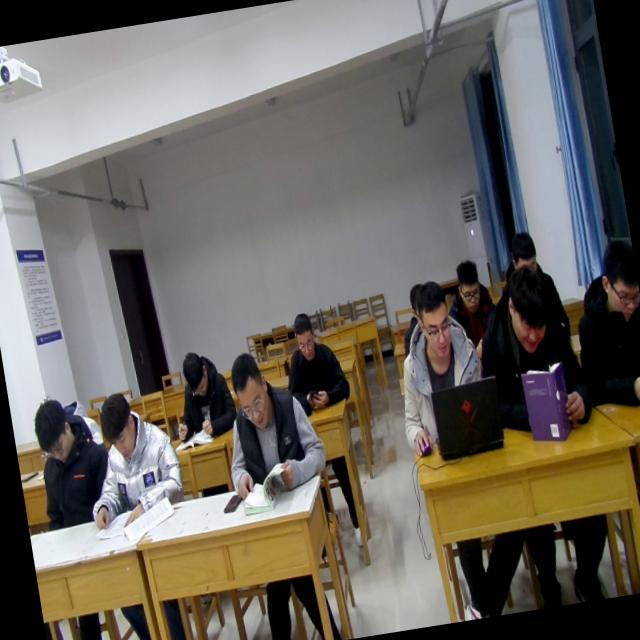down: (497, 263, 558, 353), (222, 342, 276, 432), (91, 383, 146, 465), (409, 274, 458, 364), (27, 389, 78, 469), (595, 235, 640, 323), (450, 256, 490, 324), (285, 306, 324, 362), (505, 223, 542, 280), (176, 348, 211, 399)
sit: (382, 273, 498, 463), (479, 265, 595, 444), (210, 340, 330, 503), (72, 382, 190, 532), (562, 229, 640, 411), (23, 388, 116, 532), (279, 301, 355, 412), (165, 347, 241, 440), (448, 248, 502, 336), (500, 213, 548, 280)
